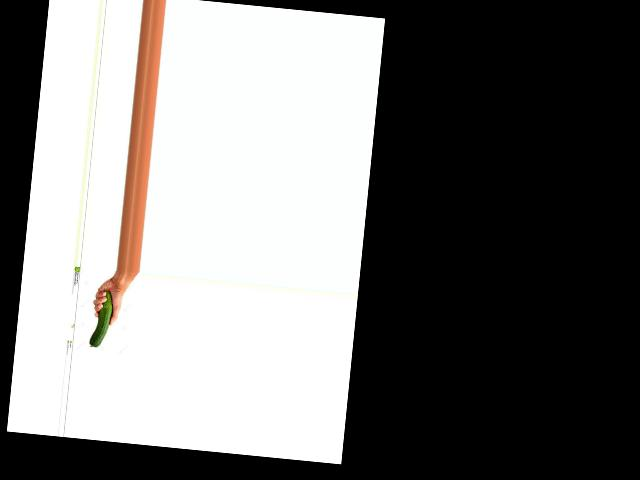cucumber: (88, 290, 113, 348)
